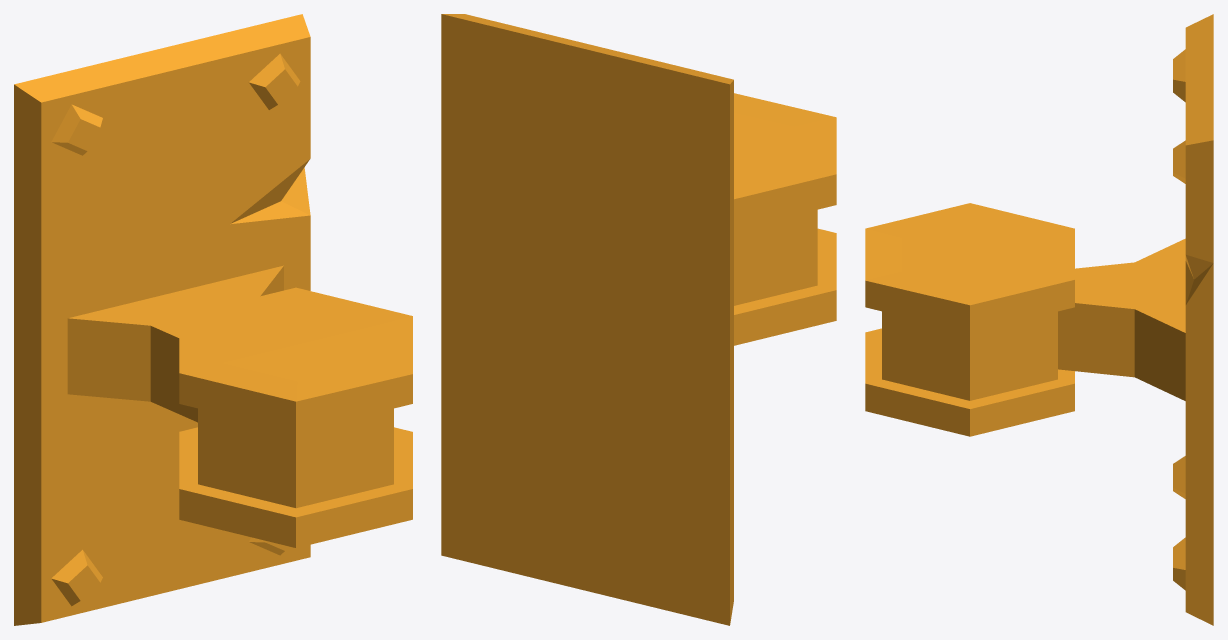
File: SM_Torch_Holder_B_Fantasy.fbx
The picture shows the model from 3 angles, left to right: view 1: azimuth 30°, elevation 25°; view 2: azimuth 150°, elevation 25°; view 3: azimuth 270°, elevation 25°; orthographic projection. The views are drawn at different scales.
Visible parts, largest first — view 1: torch-holder-b-fantasy; view 2: torch-holder-b-fantasy; view 3: torch-holder-b-fantasy.
Part boxes in pixels (x1,y1,x2,y2): torch-holder-b-fantasy: [14, 14, 412, 625]; torch-holder-b-fantasy: [441, 14, 836, 625]; torch-holder-b-fantasy: [865, 14, 1213, 625].
Size of the model in its own units: 0.0704 by 0.1262 by 0.0821.
